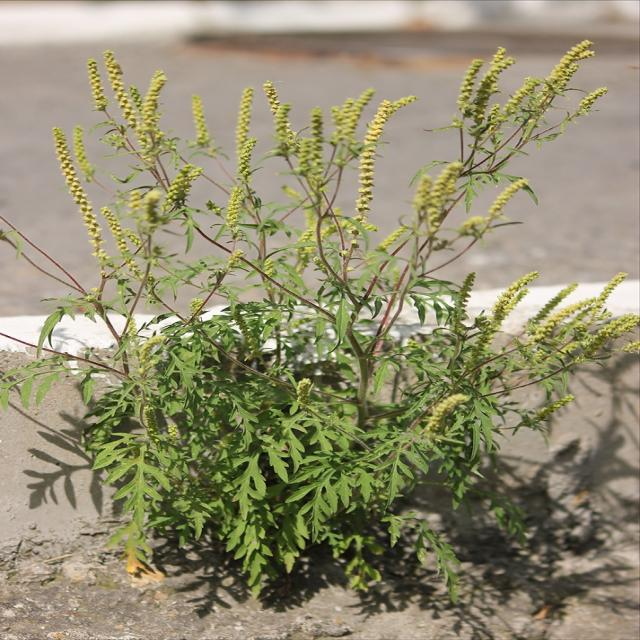ambrosia: (118, 366, 424, 526), (207, 58, 366, 252), (4, 106, 149, 296), (399, 34, 640, 142), (455, 259, 640, 387), (66, 43, 196, 156), (389, 166, 516, 244)
